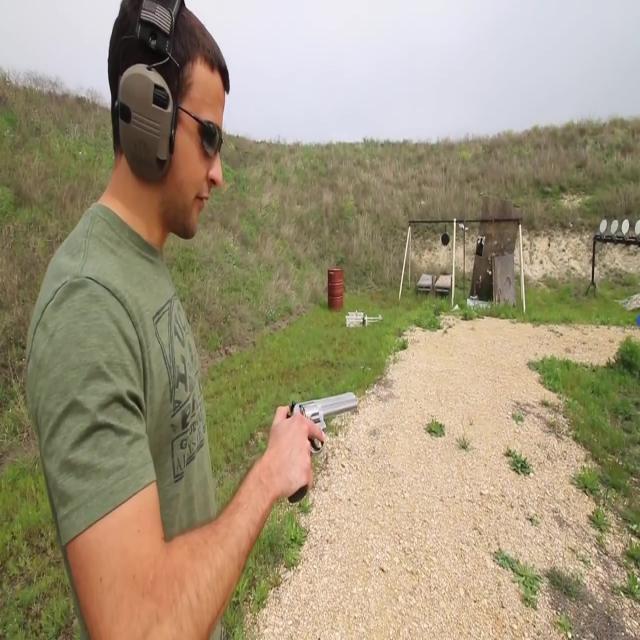Weapon: (266, 347, 373, 518)
